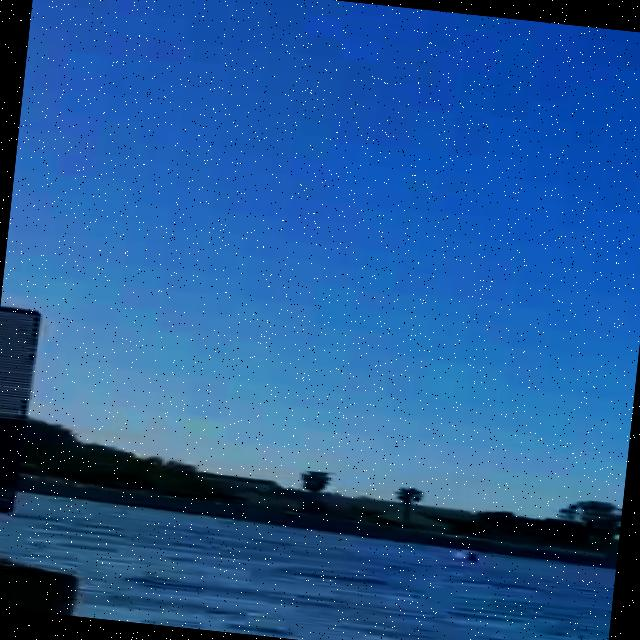marque: (1, 35, 149, 618)
